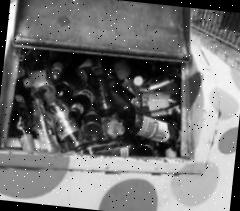glass: (36, 82, 90, 154), (82, 63, 128, 142), (120, 110, 191, 150), (26, 95, 64, 155)
